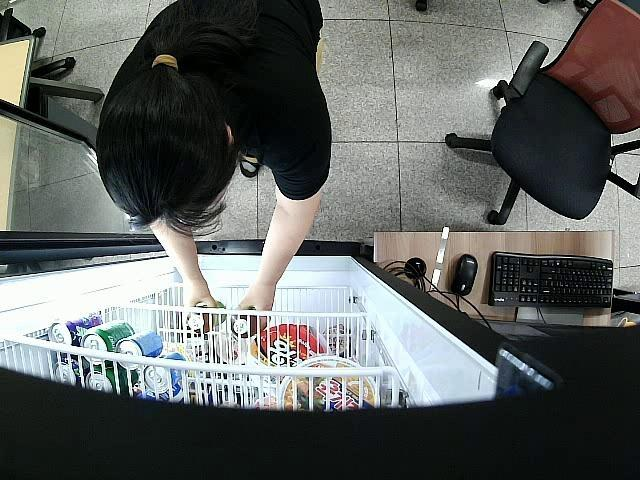19_17cha: (188, 300, 227, 332), (228, 309, 262, 338)
